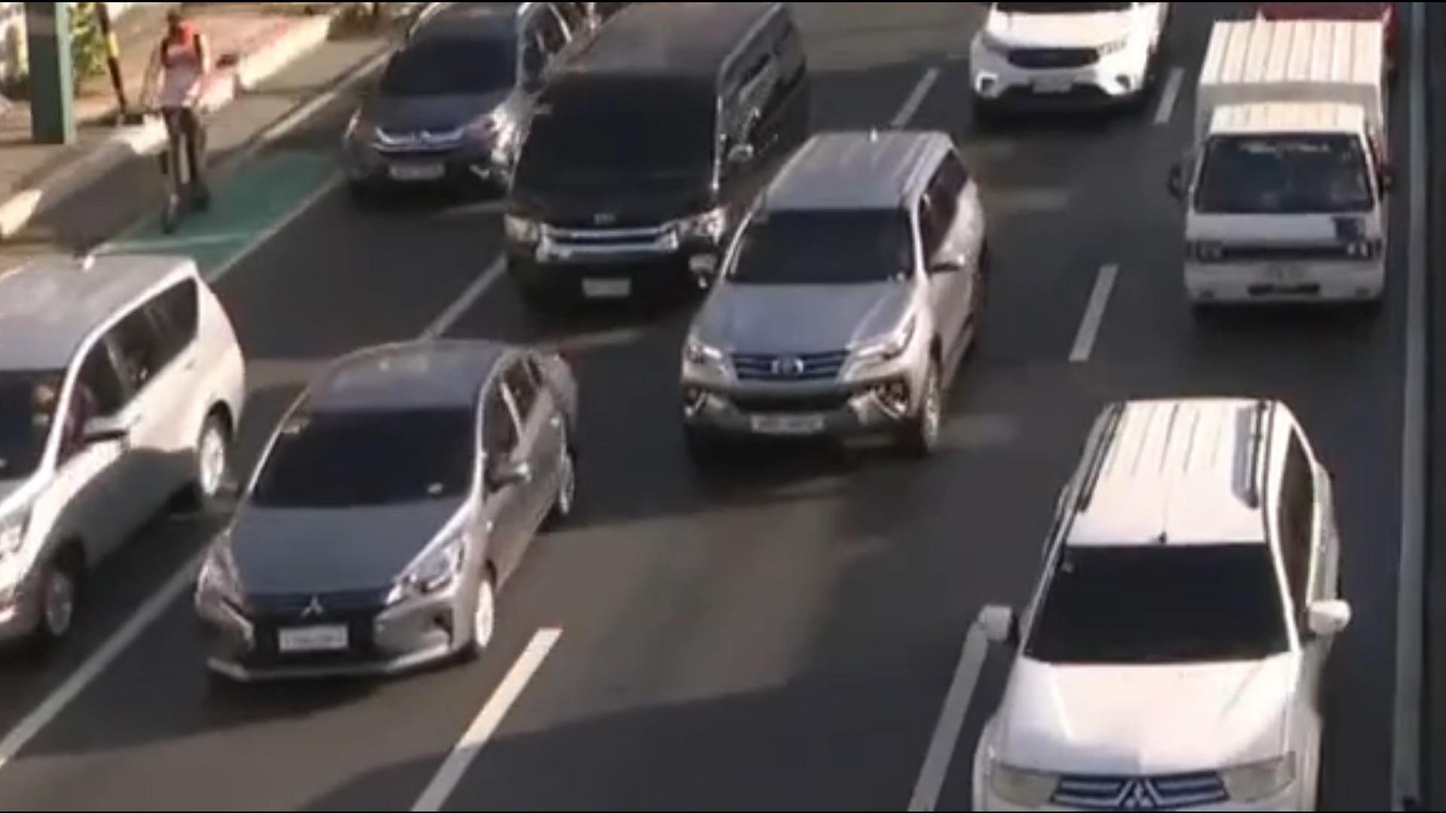Bicycle: (129, 9, 229, 241)
Multicab: (1181, 19, 1399, 318)
SUV: (968, 399, 1354, 813), (680, 124, 992, 465), (0, 254, 254, 649), (338, 0, 596, 206), (962, 0, 1176, 109)
Sedan: (195, 348, 595, 686)
Van: (505, 0, 812, 314)
